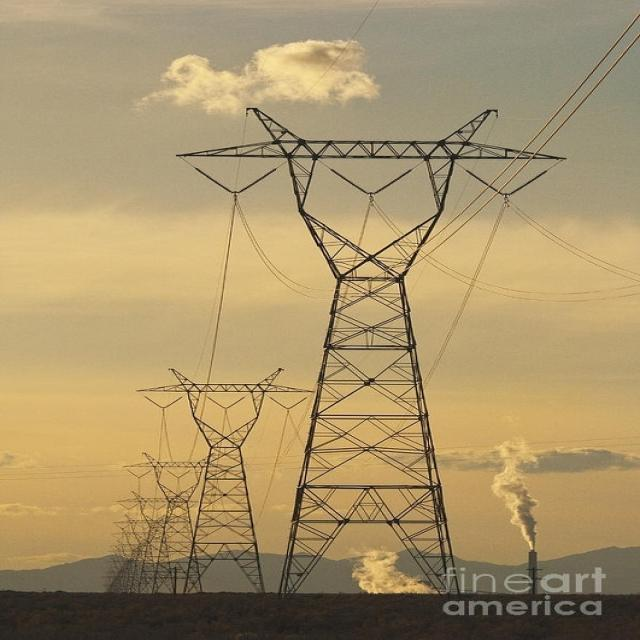non-critical vegetation: (213, 109, 538, 606), (153, 375, 286, 592)
